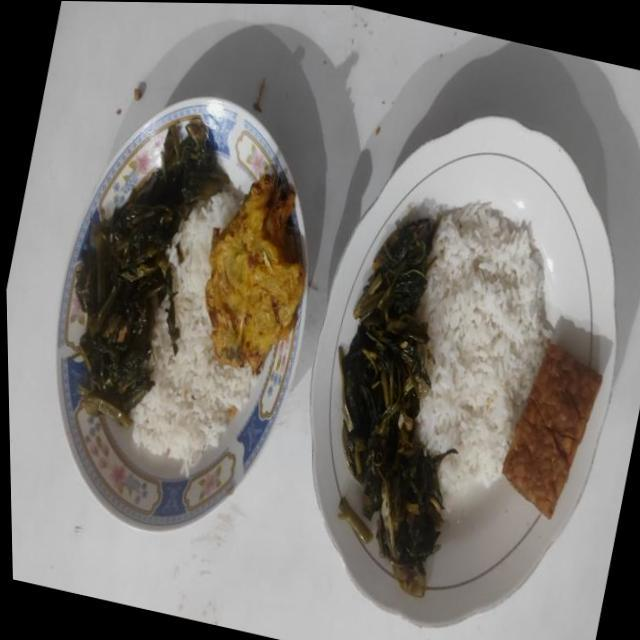nasi_putih: (415, 202, 547, 498), (132, 190, 255, 466)
tempe_goreng: (502, 343, 602, 518)
tumis_kangkung: (70, 116, 230, 425), (338, 218, 456, 596)
